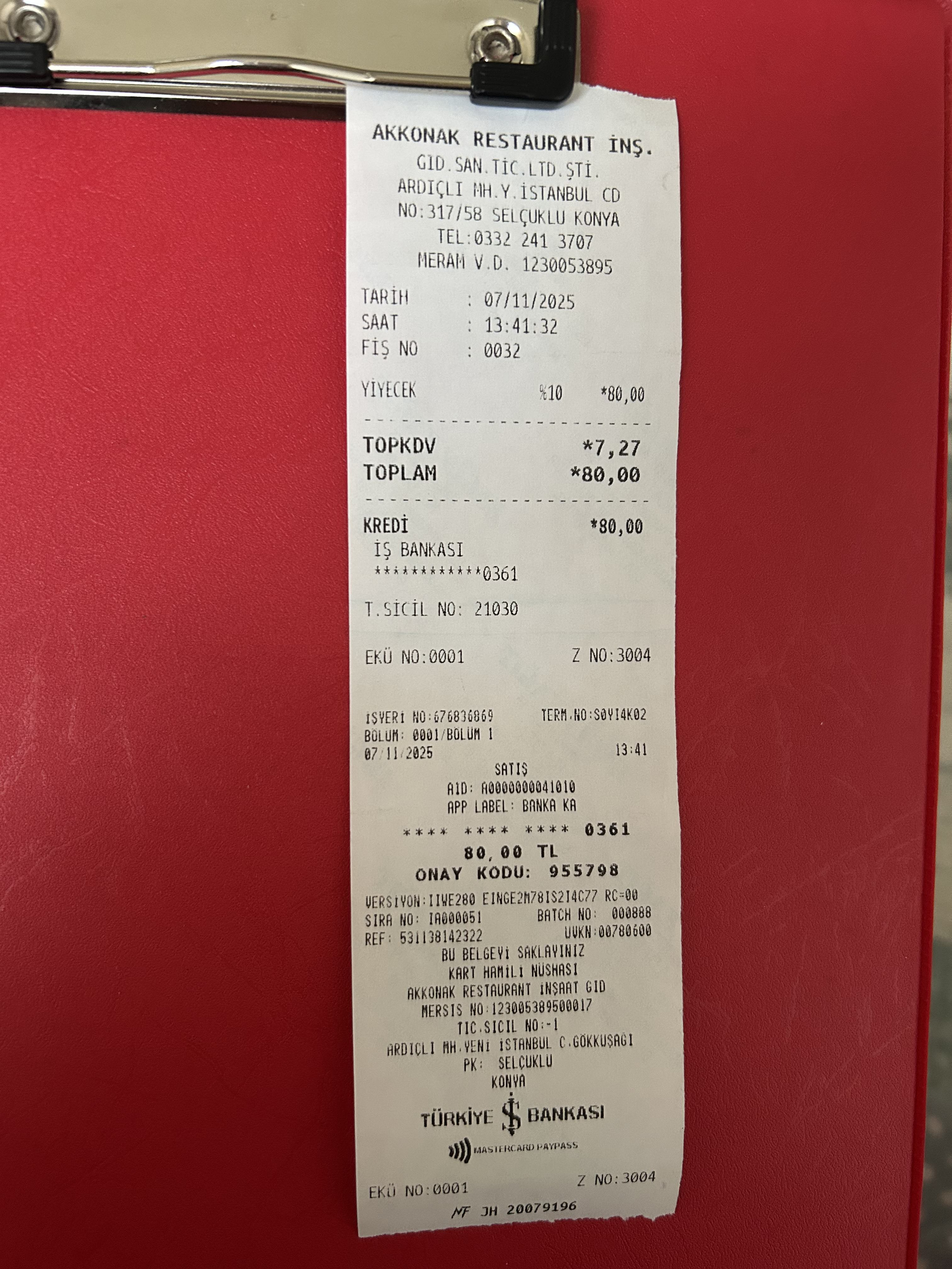date: (580, 459, 645, 494)
price: (480, 286, 578, 313)
workplace: (361, 118, 658, 231)
